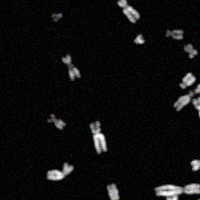chromosome: (173, 77, 200, 111), (154, 182, 200, 197), (90, 121, 107, 154), (117, 0, 140, 24), (46, 161, 73, 181), (62, 55, 81, 81), (107, 183, 132, 200), (191, 97, 200, 129), (47, 115, 65, 131), (164, 27, 183, 41), (179, 73, 195, 89), (190, 150, 200, 172), (183, 44, 198, 58), (133, 32, 146, 45), (51, 13, 62, 23), (166, 195, 180, 200), (193, 0, 200, 8), (172, 199, 200, 200)
